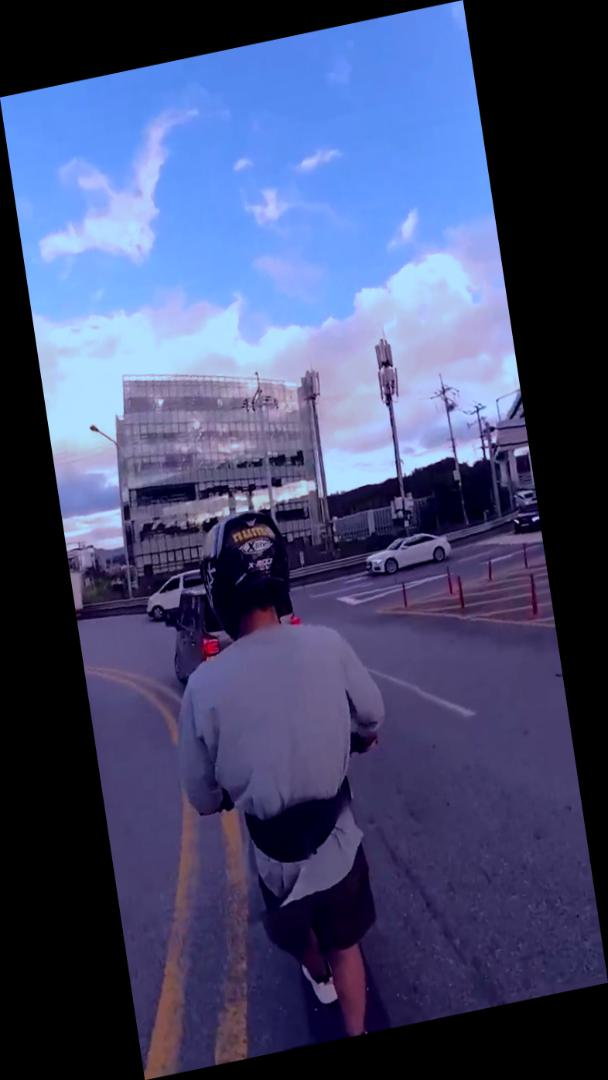helmet: (141, 489, 435, 1064)
